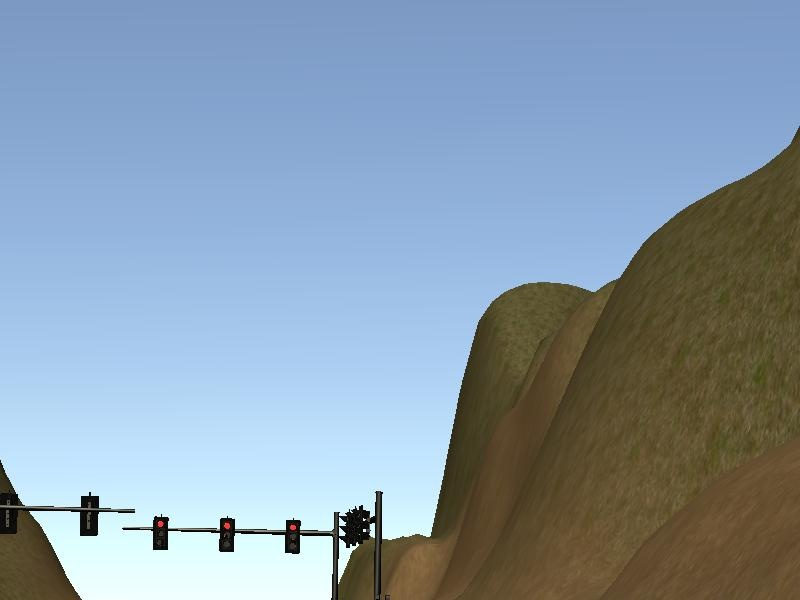traffic_light_red: (146, 515, 329, 555)
